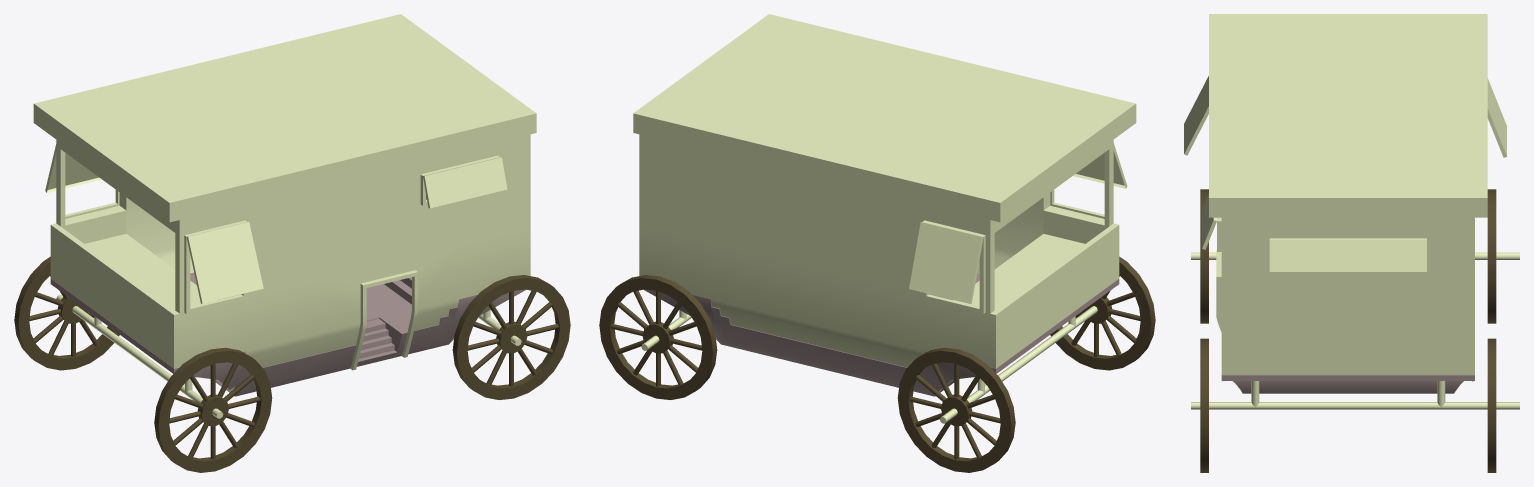
File: wagon_5x3 (1).fbx
The picture shows the model from 3 angles, left to right: view 1: azimuth 30°, elevation 25°; view 2: azimuth 150°, elevation 25°; view 3: azimuth 270°, elevation 25°; orthographic projection. The views are drawn at different scales.
Parts seen in each view (by area): view 1: Body, Wheel, Bottom; view 2: Body, Wheel, Bottom; view 3: Body, Wheel, Bottom.
Boxes of the visible parts, box(x1,y1,x2,y2) form: Body: box(33, 14, 536, 418); Wheel: box(14, 256, 570, 472); Bottom: box(50, 272, 525, 396); Body: box(633, 14, 1136, 423); Wheel: box(599, 256, 1155, 472); Bottom: box(644, 273, 1119, 396); Body: box(1184, 14, 1519, 409); Wheel: box(1200, 189, 1496, 472); Bottom: box(1221, 375, 1474, 393).
Size of the model in its own units: 578 by 369 by 398.
